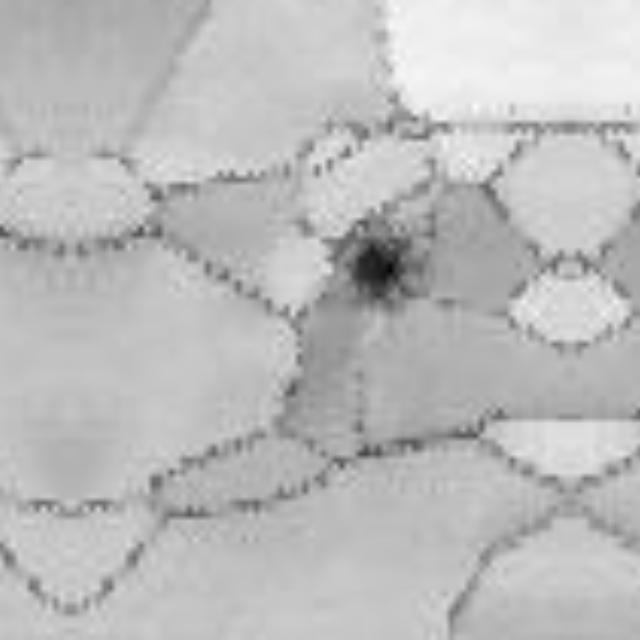good_void: (327, 214, 435, 324)
